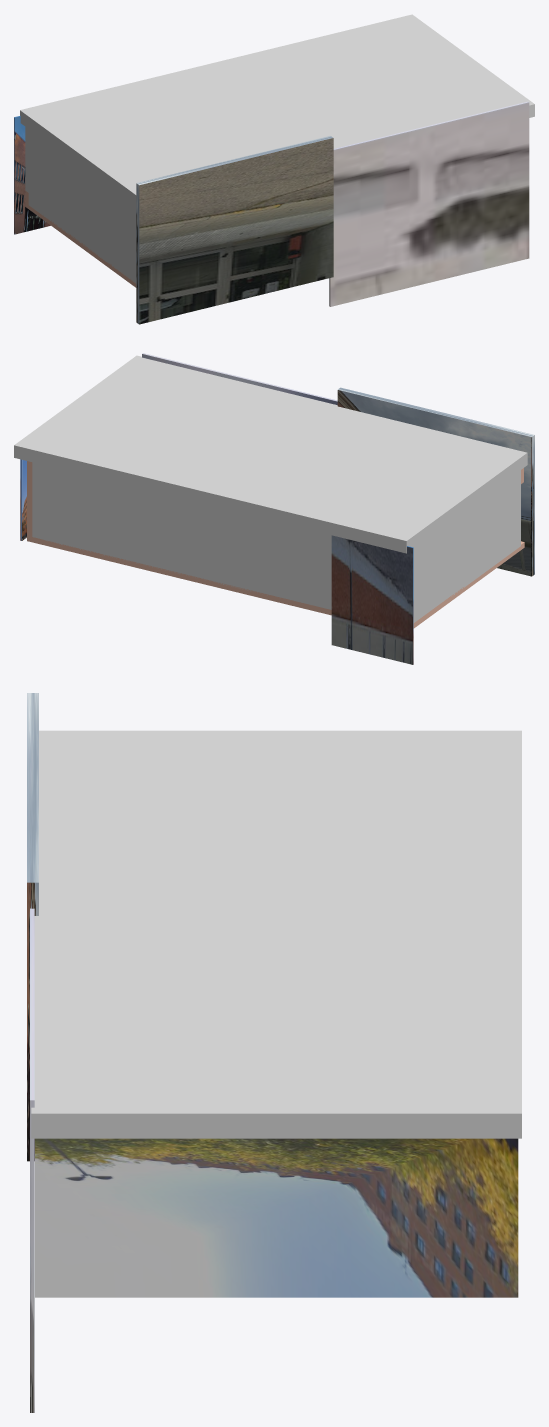
The model's file is casa.glb.
3 renders of one model, top to bottom at view 1: azimuth 30°, elevation 25°; view 2: azimuth 150°, elevation 25°; view 3: azimuth 270°, elevation 25°, orthographic. The views are drawn at different scales.
Parts seen in each view (by area): view 1: Cube.008, Cube.006, Cube.005, Cube, Cube.007; view 2: Cube.008, Cube, Cube.007, Cube.005, Cube.006, Cube.004; view 3: Cube.008, Cube.004, Cube.005, Cube.006.
Part boxes in pixels (x1=…): Cube.008: x1=20, y1=14, x2=534, y2=207; Cube.006: x1=329, y1=101, x2=529, y2=306; Cube.005: x1=136, y1=135, x2=333, y2=324; Cube: x1=25, y1=127, x2=136, y2=287; Cube.007: x1=14, y1=116, x2=50, y2=234; Cube.008: x1=14, y1=355, x2=527, y2=553; Cube: x1=27, y1=461, x2=524, y2=628; Cube.007: x1=331, y1=535, x2=413, y2=664; Cube.005: x1=337, y1=387, x2=534, y2=576; Cube.006: x1=142, y1=353, x2=337, y2=404; Cube.004: x1=20, y1=459, x2=26, y2=540; Cube.008: x1=31, y1=730, x2=521, y2=1138; Cube.004: x1=35, y1=1138, x2=518, y2=1297; Cube.005: x1=27, y1=693, x2=38, y2=1161; Cube.006: x1=30, y1=908, x2=34, y2=1412.
Size of the model in its own units: 157 by 63.85 by 84.71.
Materials: 10 (4 with a texture image).
